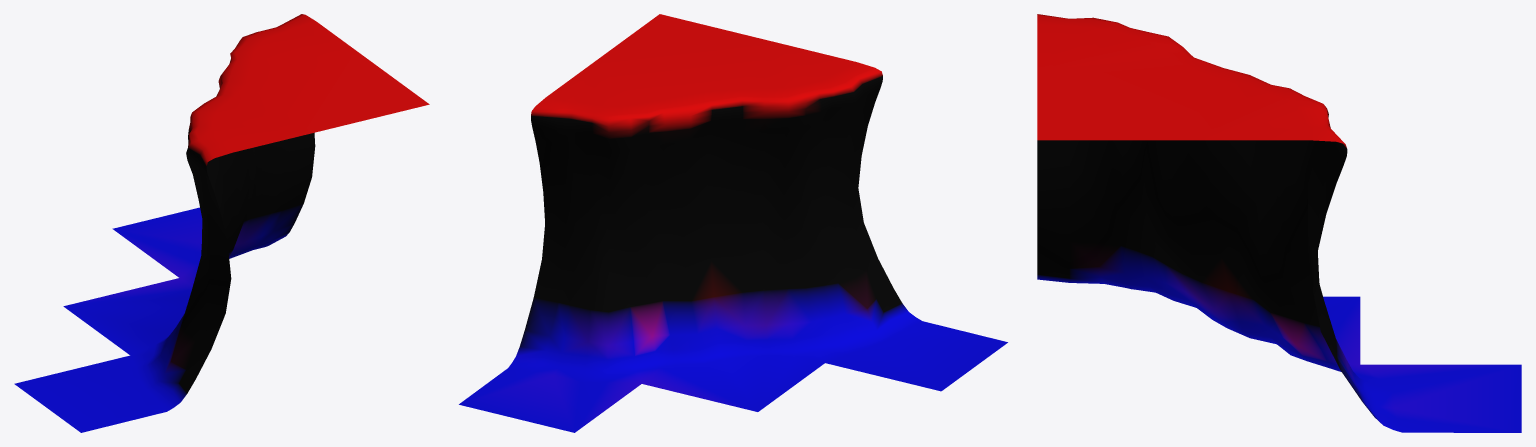
The model's file is GroundCliff03A 2M for Water Background.fbx.
3 renders of one model, left to right at view 1: azimuth 30°, elevation 25°; view 2: azimuth 150°, elevation 25°; view 3: azimuth 270°, elevation 25°, orthographic. The views are drawn at different scales.
Visible parts, largest first — view 1: GroundCliff03A 2M for Water Background; view 2: GroundCliff03A 2M for Water Background; view 3: GroundCliff03A 2M for Water Background.
Part boxes in pixels (box(x1,y1,x2,y2)): GroundCliff03A 2M for Water Background: box(14, 14, 429, 432); GroundCliff03A 2M for Water Background: box(459, 14, 1007, 432); GroundCliff03A 2M for Water Background: box(1037, 14, 1521, 432).
Bounding box in the file's own units: 3 × 2 × 3.
